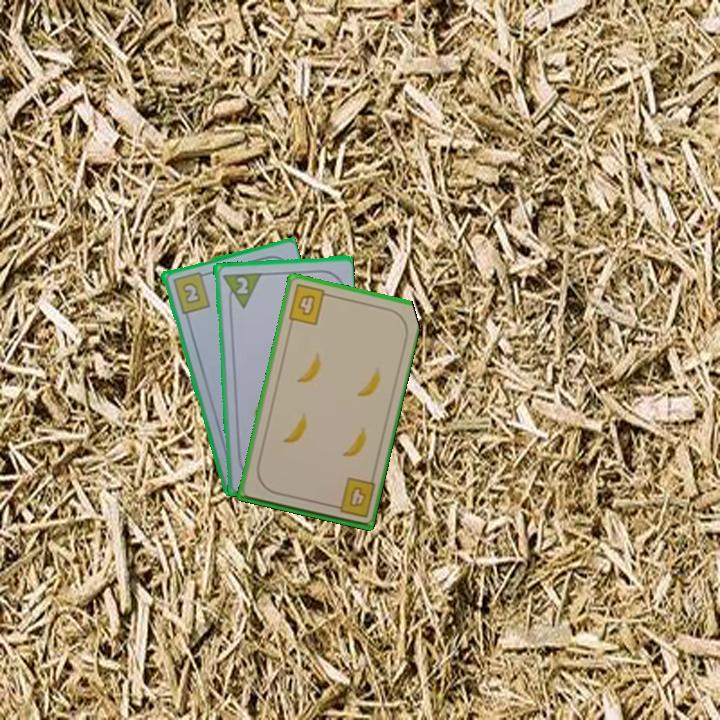2b: (169, 268, 213, 316)
2p: (232, 273, 251, 296)
4b: (327, 474, 378, 521), (285, 281, 334, 328)
